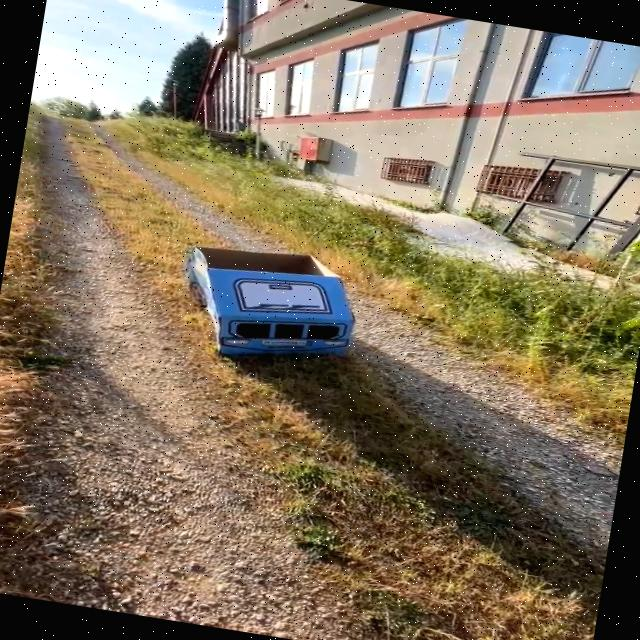blue_car: (143, 215, 398, 407)
